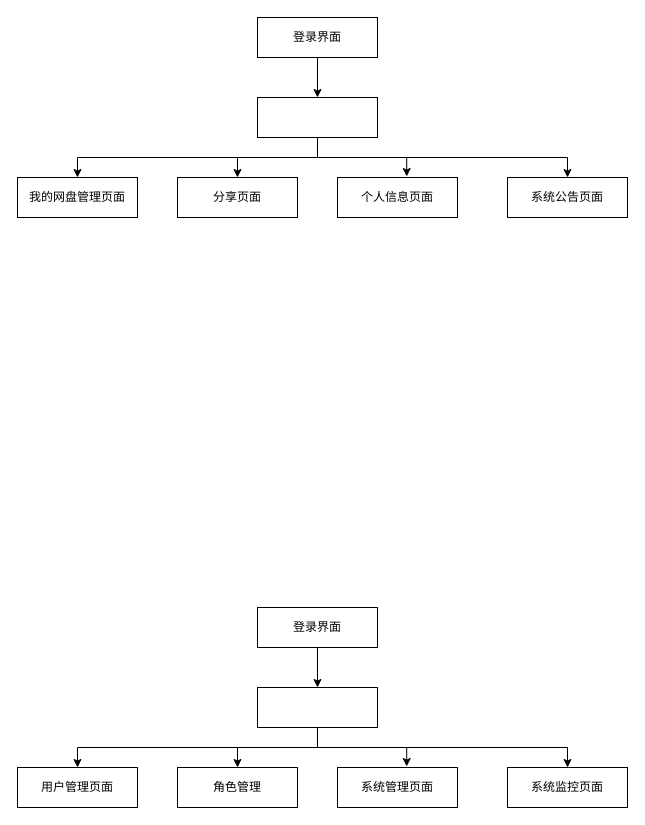
Image size: 645x825. Some labels were removed from this diagram. Here are the shapes that lost their labels. From the top down, the centre of each, then its label:
At (317,117): "前台主界面".
At (317,707): "后台台主界面".
